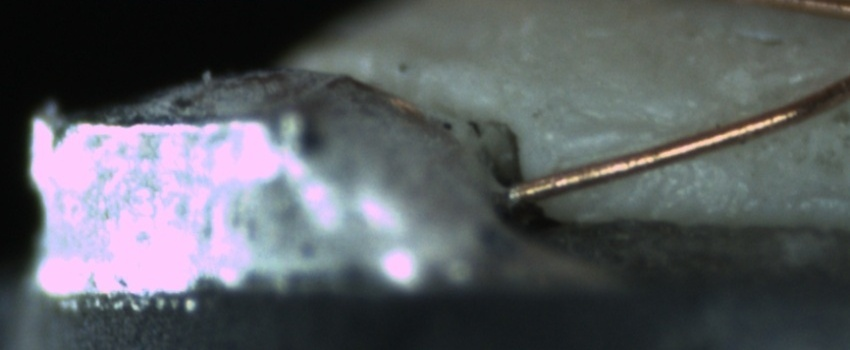DL: (547, 97, 682, 160)
